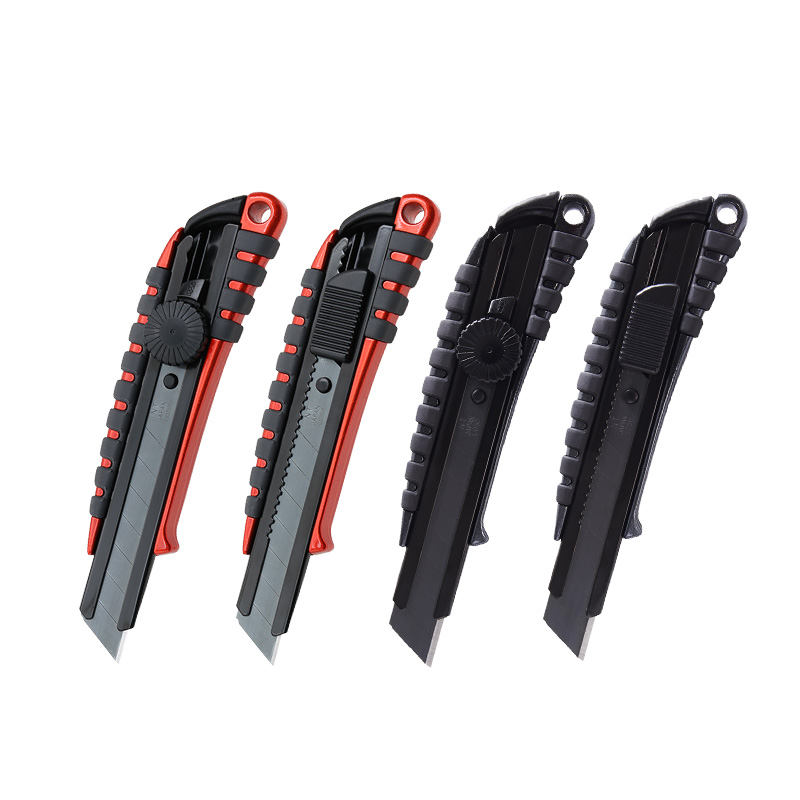cutter: (542, 191, 754, 668), (385, 191, 596, 670), (232, 192, 442, 673), (77, 192, 291, 663)
